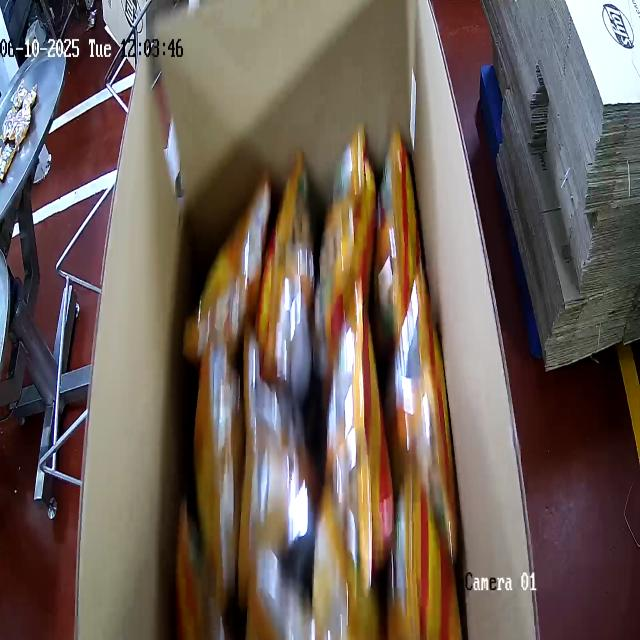FRENCH_CHEESE: (177, 127, 466, 640)
